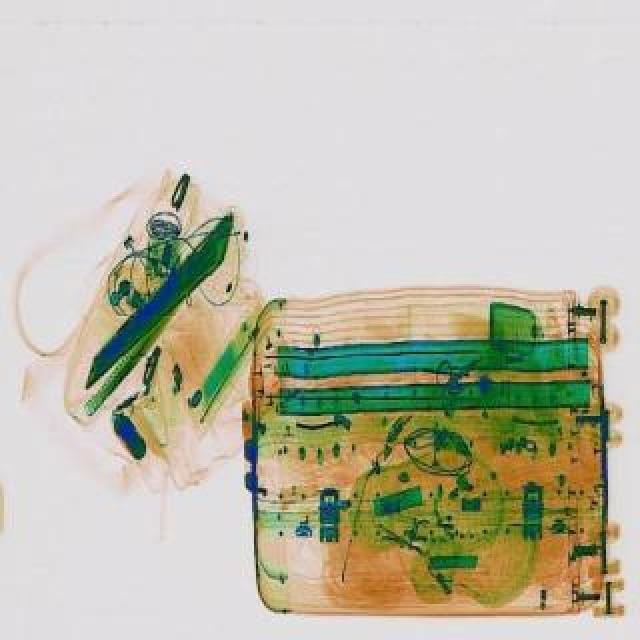pliers: (416, 338, 498, 410)
